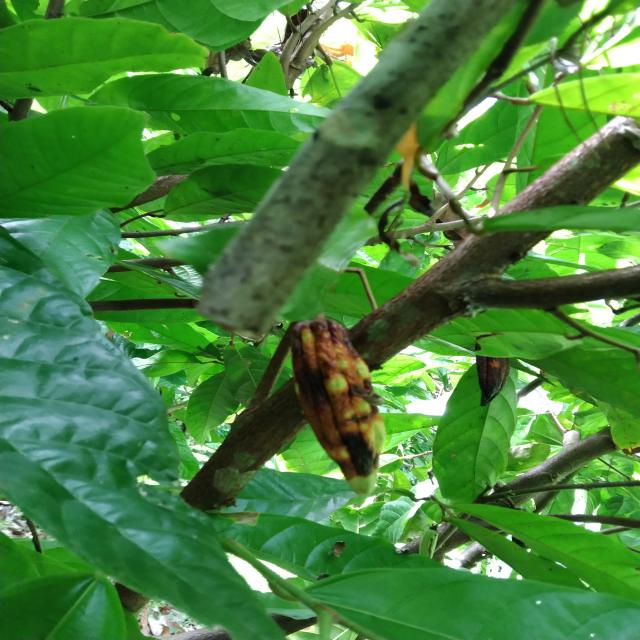Fitoftora: (282, 319, 390, 494)
